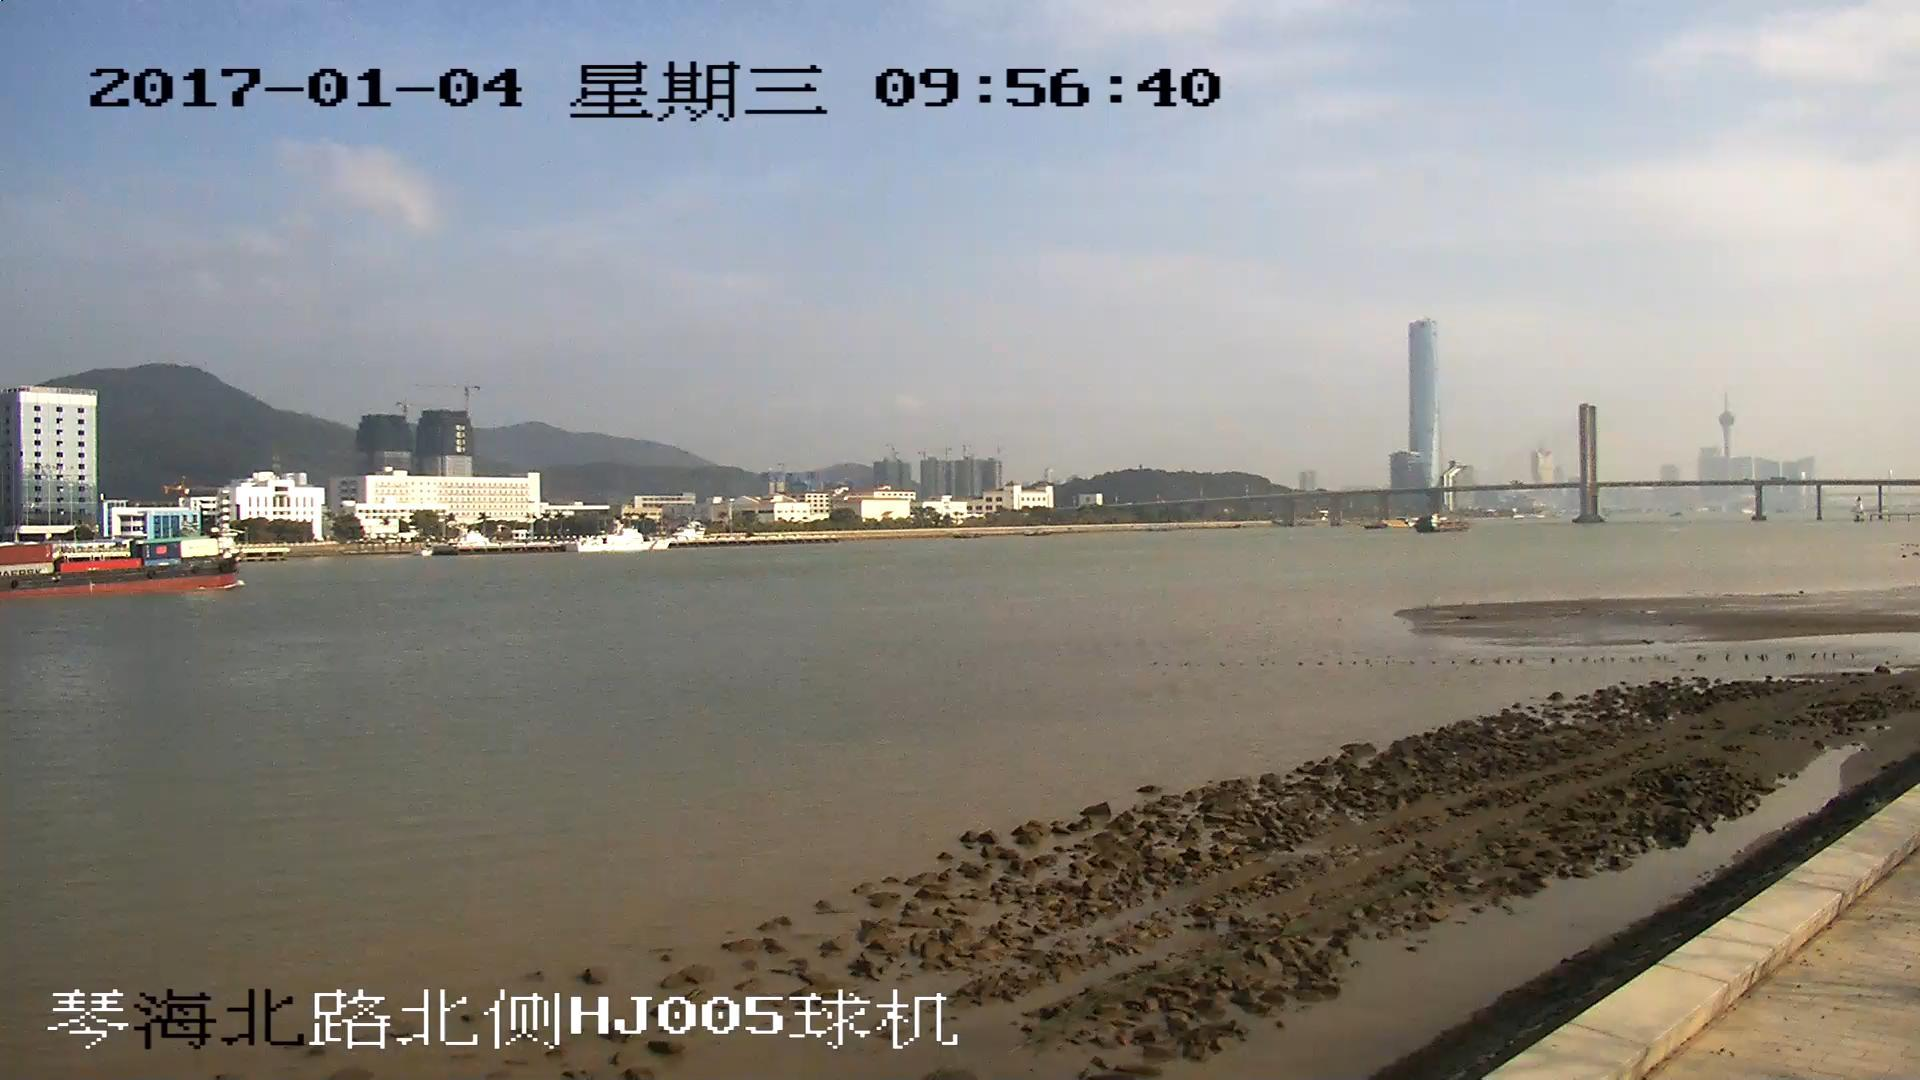Ship: (3, 537, 241, 593)
